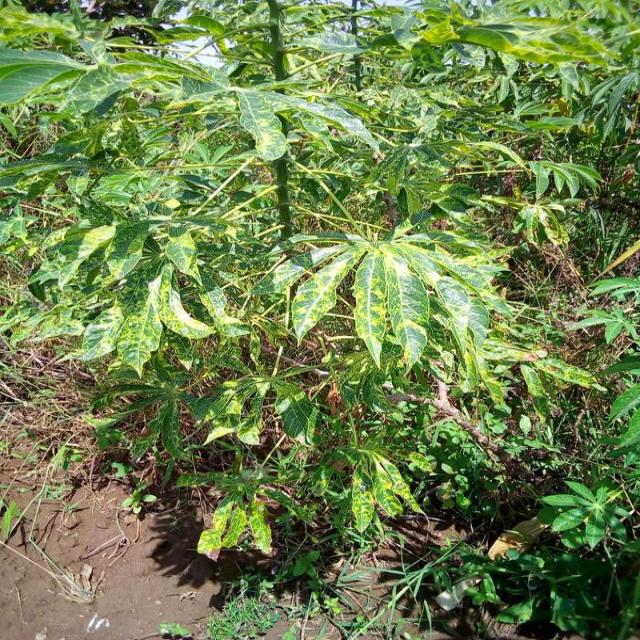cassava leaf: (272, 218, 502, 380)
